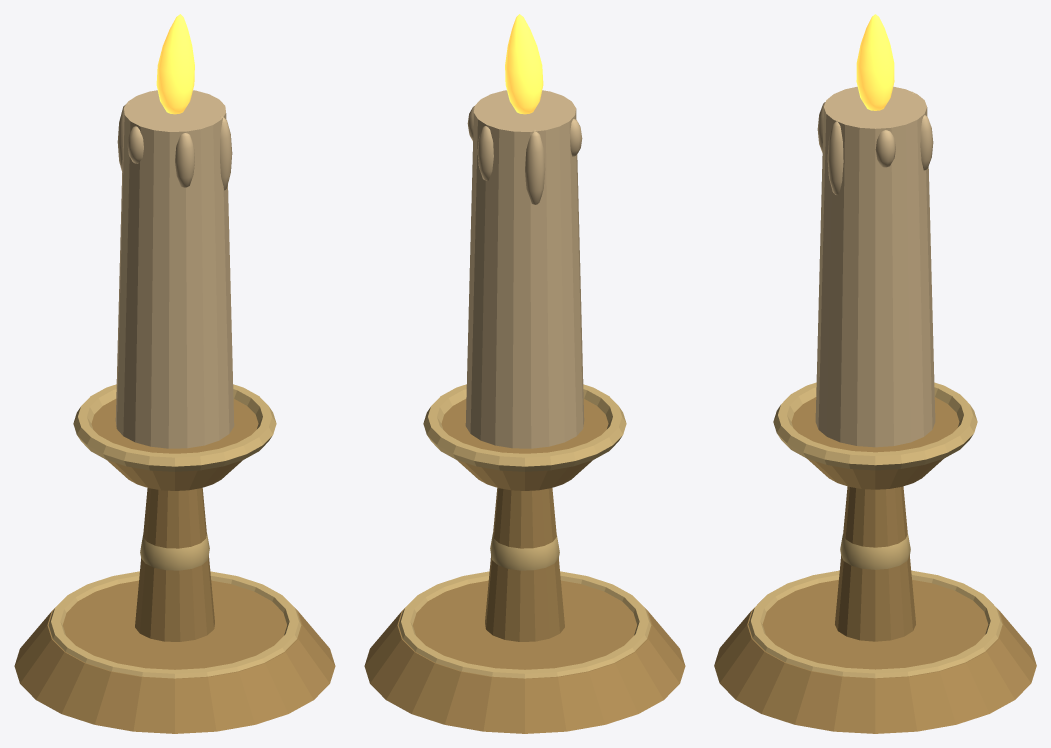
File: wizard_candle_085.glb
The picture shows the model from 3 angles, left to right: view 1: azimuth 30°, elevation 25°; view 2: azimuth 150°, elevation 25°; view 3: azimuth 270°, elevation 25°; orthographic projection.
Visible parts, largest first — view 1: wizard_candle_085_Static, wizard_candle_085_Flame; view 2: wizard_candle_085_Static, wizard_candle_085_Flame; view 3: wizard_candle_085_Static, wizard_candle_085_Flame.
Boxes of the visible parts, x1,y1,x2,y2 form: wizard_candle_085_Static: (14, 90, 335, 733); wizard_candle_085_Flame: (156, 14, 194, 114); wizard_candle_085_Static: (364, 90, 685, 733); wizard_candle_085_Flame: (505, 14, 543, 114); wizard_candle_085_Static: (714, 86, 1036, 733); wizard_candle_085_Flame: (856, 14, 894, 110).
Size of the model in its own units: 0.78 by 1.75 by 0.78.
